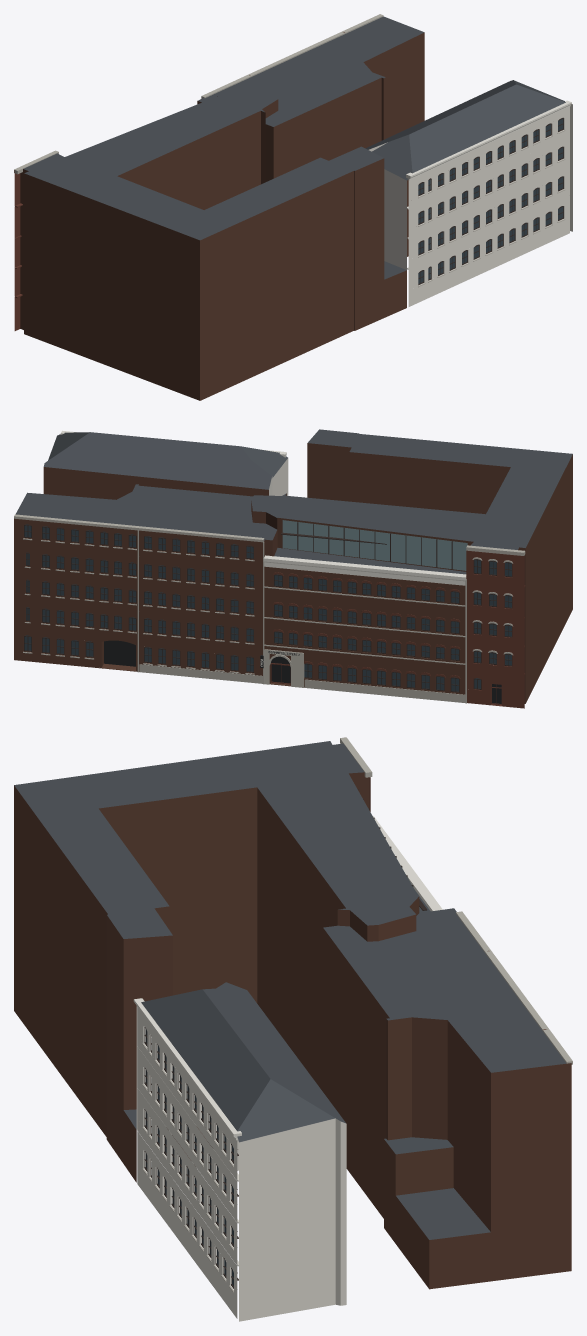
File: crea.glb
3 views of the same model, one above another, from view 1: azimuth 30°, elevation 25°; view 2: azimuth 150°, elevation 25°; view 3: azimuth 270°, elevation 25° (orthographic). The views are drawn at different scales.
Visible parts, largest first — view 1: crea; view 2: crea; view 3: crea.
Boxes of the visible parts, left/top/right/bottom form: crea: left=14, top=14, right=572, bottom=400; crea: left=14, top=429, right=572, bottom=708; crea: left=14, top=737, right=572, bottom=1321.
Size of the model in its own units: 66.18 by 19.6 by 43.74.
